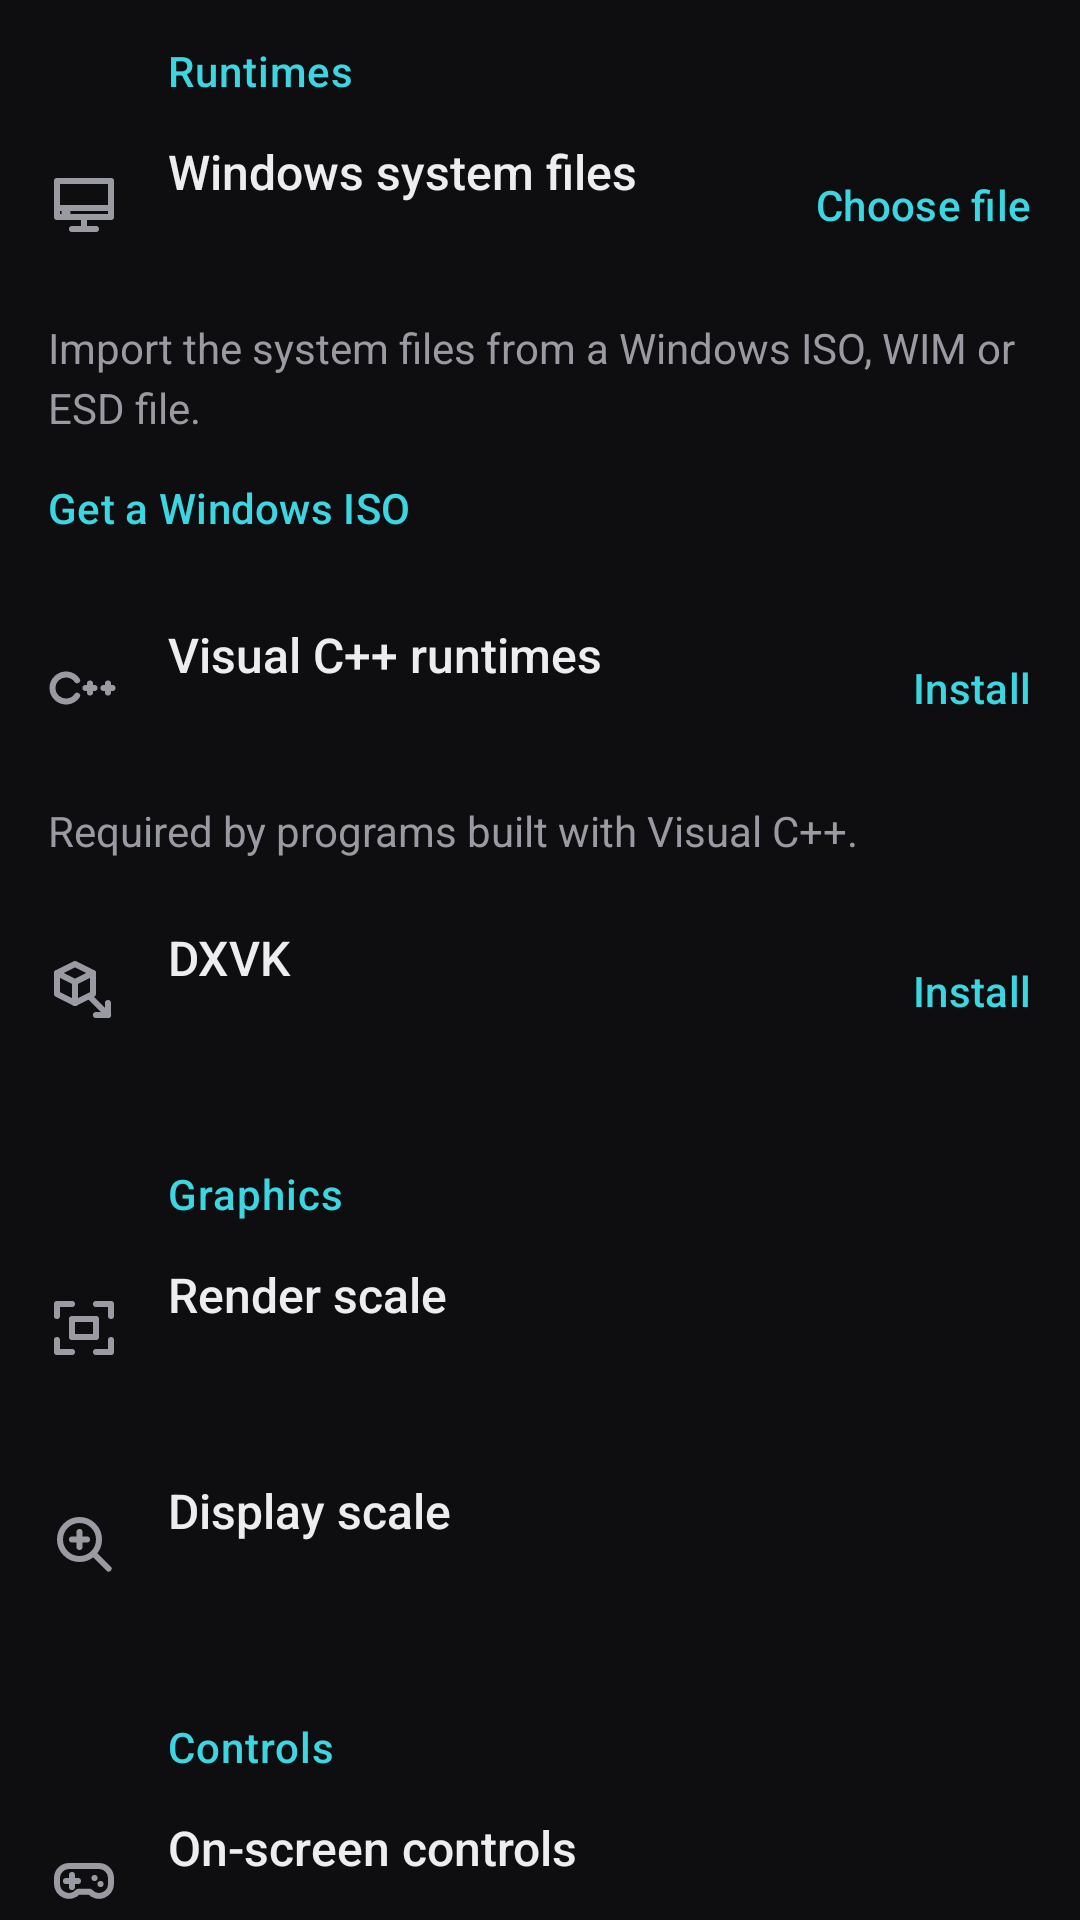

Icon bounding boxes for this 1080*1920 phone screenshot, format (x1, y1, x2, y2):
row gamepad: (54, 1863, 114, 1899)
row render: (54, 1301, 114, 1355)
row system: (54, 178, 114, 232)
